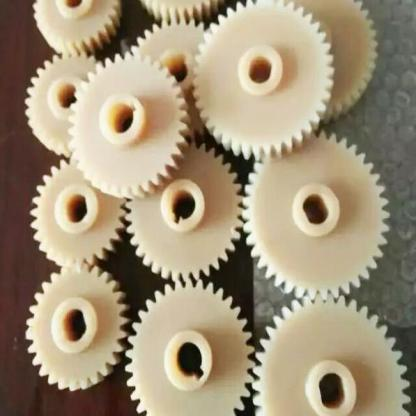FOD: (240, 129, 392, 304), (190, 1, 337, 161), (252, 289, 413, 415), (66, 48, 192, 202), (124, 281, 254, 415), (126, 139, 243, 283), (22, 262, 127, 396), (29, 159, 126, 270), (21, 49, 100, 157), (30, 0, 123, 63)
